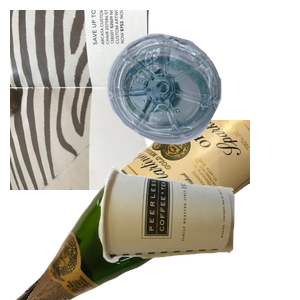glass: (13, 120, 253, 300)
paper: (10, 10, 250, 190)
plastic: (104, 31, 300, 168)
trash: (95, 164, 300, 300)
